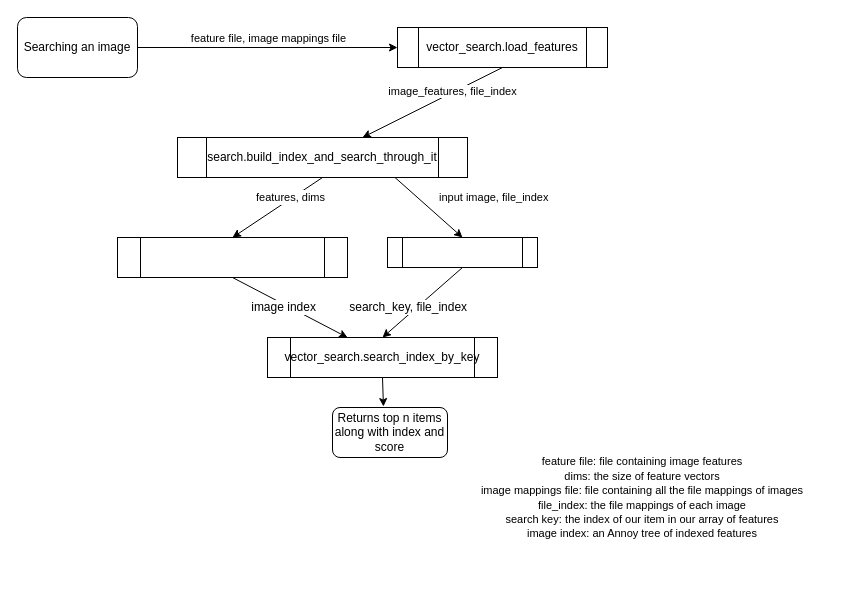
Some shapes in this 855 by 615 pixel diagram are drawn without their labels. Here are the shapes that lost their labels. From the top down, the centre of each, then its label:
At point (232, 257): "vector_search.index_features".
At point (462, 252): "search.get_index".
